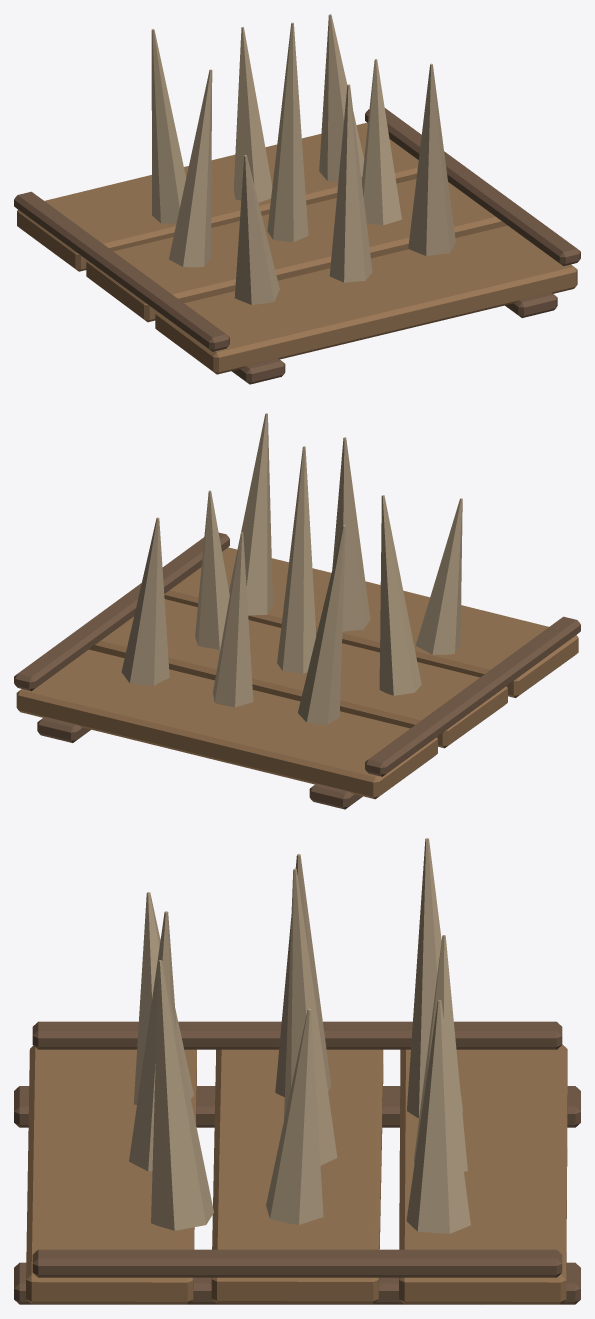
Rendered from SpikeTrap.fbx.
3 views of the same model, one above another, from view 1: azimuth 30°, elevation 25°; view 2: azimuth 150°, elevation 25°; view 3: azimuth 270°, elevation 25° (orthographic). The views are drawn at different scales.
Visible parts, largest first — view 1: Base, Spikes; view 2: Base, Spikes; view 3: Base, Spikes.
Boxes of the visible parts, bbox=[...] form: Base: bbox=[14, 108, 580, 384]; Spikes: bbox=[151, 14, 455, 304]; Base: bbox=[14, 532, 580, 809]; Spikes: bbox=[121, 413, 462, 724]; Base: bbox=[14, 1021, 580, 1304]; Spikes: bbox=[129, 838, 470, 1233].
Size of the model in its own units: 1.23 by 0.7898 by 1.22.
